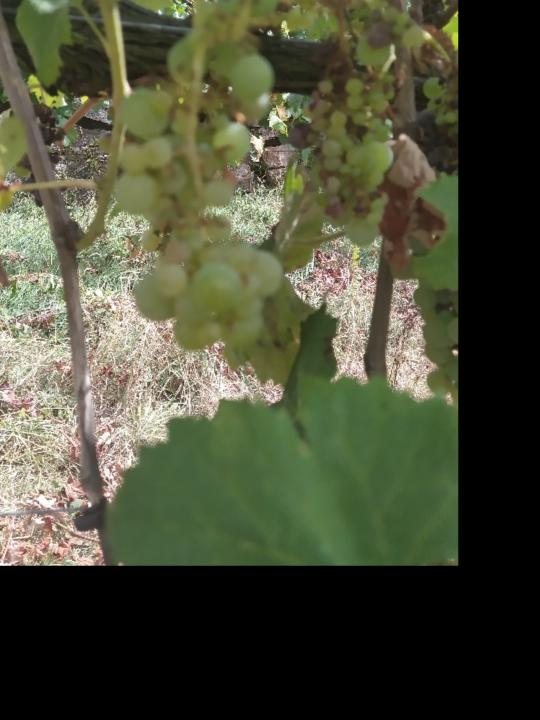grape: (109, 21, 287, 370)
